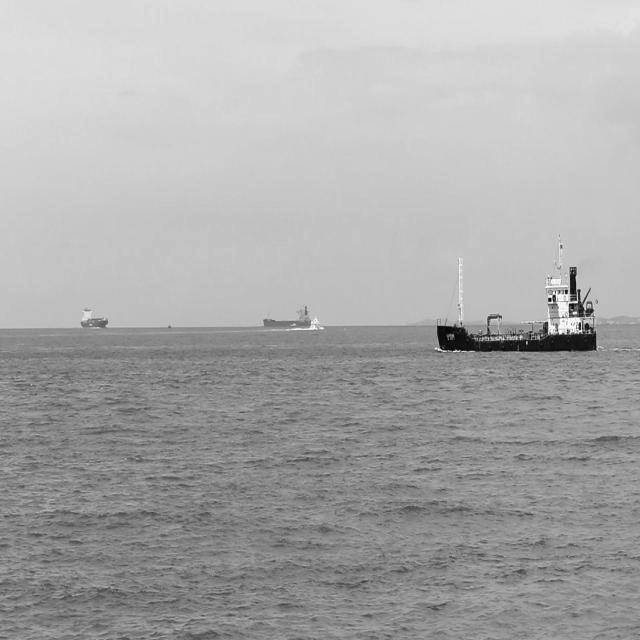ship: (433, 230, 599, 354), (262, 298, 312, 332), (78, 301, 110, 329), (308, 312, 324, 332)
